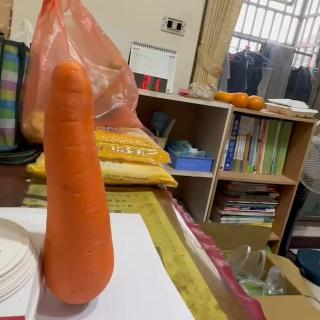carrot: (42, 59, 116, 305)
